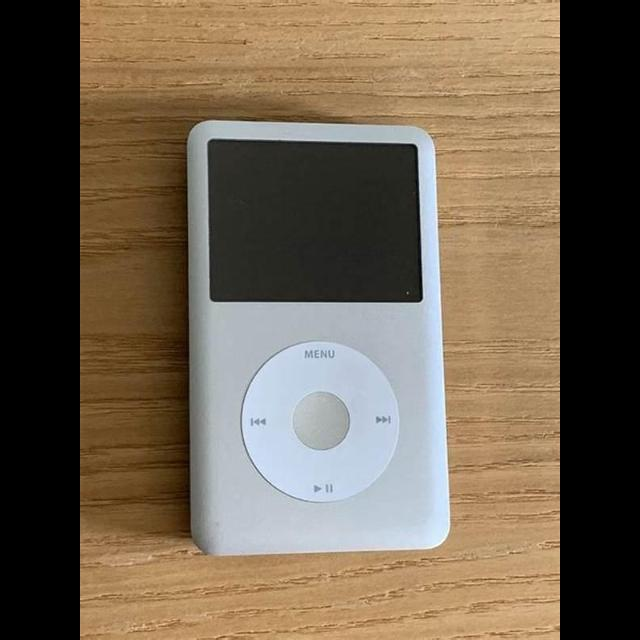Music-Player: (173, 110, 467, 574)
